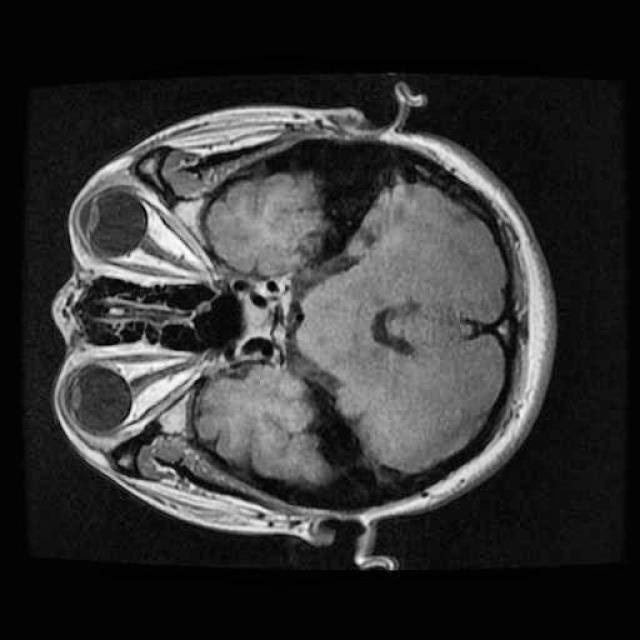Tumor: (229, 286, 289, 342)
